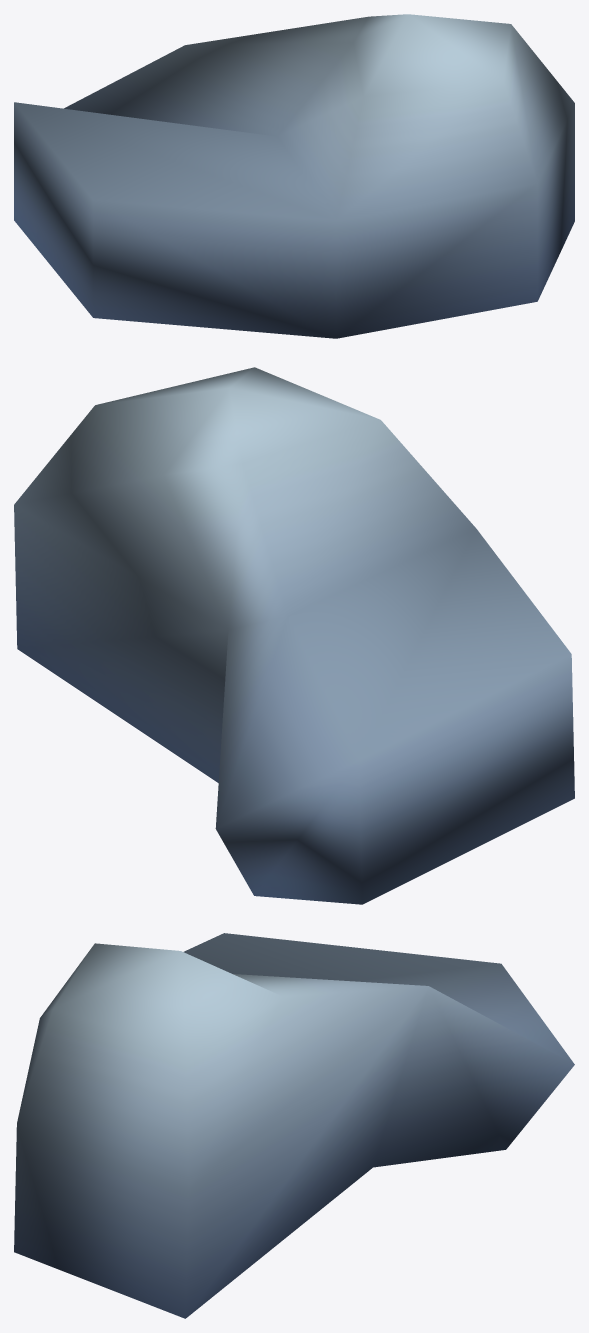
Rendered from boulder1.fbx.
The picture shows the model from 3 angles, top to bottom: view 1: azimuth 30°, elevation 25°; view 2: azimuth 150°, elevation 25°; view 3: azimuth 270°, elevation 25°; orthographic projection. The views are drawn at different scales.
Parts seen in each view (by area): view 1: boulder1; view 2: boulder1; view 3: boulder1.
Part boxes in pixels (bbox=[...]): boulder1: bbox=[14, 14, 574, 338]; boulder1: bbox=[14, 367, 574, 904]; boulder1: bbox=[14, 933, 574, 1318].
Bounding box in the file's own units: 0.0119 × 0.00637 × 0.0112.
Materials: 1 (1 with a texture image).
